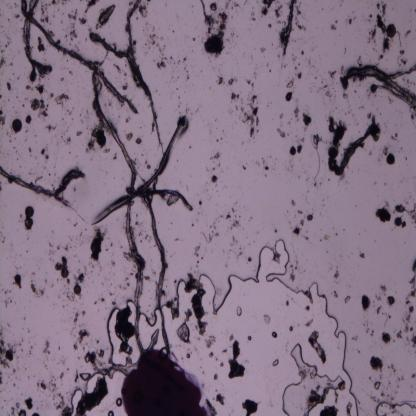Air bubble: (304, 279, 360, 416), (228, 238, 310, 301), (279, 341, 346, 416), (196, 268, 234, 318), (106, 306, 126, 366), (375, 403, 416, 416), (139, 306, 161, 329), (85, 371, 102, 394), (71, 385, 82, 416), (125, 301, 138, 326), (79, 371, 92, 382), (236, 305, 243, 318), (271, 356, 279, 366), (373, 381, 382, 389), (116, 396, 122, 407), (271, 331, 278, 339), (106, 409, 113, 416), (246, 336, 252, 340)
Background material: (75, 376, 108, 416), (238, 88, 259, 139), (0, 326, 19, 368), (395, 312, 416, 348), (88, 224, 108, 261), (306, 330, 327, 364), (202, 30, 225, 59), (393, 202, 416, 230), (228, 341, 244, 379), (192, 293, 206, 336), (201, 0, 218, 34), (177, 308, 193, 344), (308, 386, 330, 406), (30, 97, 50, 118), (186, 272, 204, 294), (306, 132, 324, 153), (242, 398, 262, 416), (316, 403, 340, 416), (375, 206, 393, 223), (369, 354, 385, 373), (55, 196, 76, 210), (52, 390, 66, 410), (407, 258, 416, 289), (261, 0, 276, 18), (85, 350, 98, 370), (98, 358, 112, 376), (202, 231, 220, 245), (47, 240, 63, 255), (218, 10, 230, 30), (84, 0, 100, 15), (301, 110, 312, 131), (313, 152, 320, 183), (76, 329, 91, 343), (94, 52, 109, 66), (54, 256, 67, 272), (376, 13, 386, 33), (224, 248, 234, 268), (55, 94, 69, 108), (12, 274, 24, 290), (360, 294, 371, 311), (381, 36, 391, 54), (36, 35, 46, 53), (206, 334, 218, 348), (138, 4, 150, 18), (156, 55, 168, 69), (145, 33, 156, 48), (35, 83, 47, 95), (325, 115, 337, 127), (67, 7, 78, 20), (294, 16, 304, 30), (86, 139, 96, 153), (274, 4, 284, 18), (24, 396, 34, 410), (368, 395, 382, 405), (43, 339, 52, 354), (210, 150, 221, 162), (405, 288, 416, 300), (216, 392, 225, 406), (112, 62, 122, 74), (289, 226, 301, 236), (286, 158, 294, 173), (381, 332, 391, 343), (36, 287, 46, 298), (396, 29, 402, 47), (294, 104, 300, 122), (274, 250, 282, 263), (104, 97, 114, 107), (65, 242, 75, 252), (210, 174, 220, 184), (230, 219, 240, 229), (230, 91, 240, 101), (387, 363, 397, 373), (342, 295, 352, 305), (285, 77, 294, 88), (209, 222, 218, 233), (228, 236, 239, 245), (40, 378, 47, 392), (262, 314, 270, 326), (370, 82, 378, 94), (46, 123, 58, 131), (121, 80, 129, 92), (4, 296, 12, 308), (0, 56, 8, 68), (288, 270, 296, 282), (327, 68, 336, 78), (50, 379, 56, 394), (63, 406, 72, 416), (72, 272, 78, 287), (63, 135, 72, 145), (380, 2, 386, 17), (170, 308, 178, 319), (408, 103, 416, 114), (217, 75, 225, 86), (338, 64, 346, 75), (193, 245, 201, 256), (384, 311, 389, 328), (155, 41, 162, 53), (30, 279, 36, 293), (70, 30, 77, 42), (149, 262, 156, 274), (78, 16, 87, 25), (77, 274, 85, 284), (97, 348, 105, 358), (124, 251, 132, 261), (296, 144, 304, 154), (382, 146, 390, 156), (391, 132, 399, 142), (97, 261, 103, 274), (278, 127, 285, 138), (347, 401, 352, 416), (124, 134, 133, 142), (337, 173, 346, 181), (305, 319, 314, 327), (358, 54, 364, 66), (403, 29, 411, 38), (226, 77, 234, 86), (25, 114, 32, 124), (371, 27, 376, 41), (17, 409, 27, 416), (391, 405, 398, 415), (342, 90, 349, 100), (0, 115, 6, 126), (334, 269, 340, 280), (301, 370, 309, 378), (46, 30, 54, 38), (358, 251, 366, 259), (330, 23, 338, 31), (306, 213, 314, 221), (210, 2, 218, 10), (70, 343, 78, 351), (322, 233, 331, 240), (104, 147, 113, 154), (167, 299, 174, 308), (40, 16, 49, 23), (74, 42, 80, 52), (6, 82, 12, 92), (134, 220, 144, 226), (74, 311, 79, 323), (309, 370, 316, 378), (379, 284, 386, 292), (147, 312, 154, 320), (35, 175, 42, 183), (394, 146, 401, 154), (66, 108, 73, 116), (237, 250, 244, 258), (144, 235, 152, 242), (60, 356, 67, 364), (87, 260, 94, 268), (375, 294, 382, 302), (14, 401, 21, 409), (11, 405, 16, 416), (303, 195, 309, 204), (295, 5, 301, 14), (0, 369, 3, 387), (51, 0, 60, 6), (368, 147, 374, 156), (224, 0, 230, 9), (277, 20, 286, 26), (333, 290, 339, 299), (41, 2, 45, 15), (233, 1, 240, 8), (69, 326, 75, 334), (125, 115, 131, 123), (70, 21, 76, 29), (302, 234, 310, 240), (62, 0, 70, 6), (299, 218, 305, 226), (376, 306, 382, 314), (74, 371, 78, 383), (408, 306, 414, 314), (226, 108, 234, 114), (13, 264, 19, 271), (246, 258, 253, 264), (291, 200, 297, 207), (221, 348, 228, 354), (240, 164, 247, 170), (325, 91, 332, 97), (351, 335, 358, 341), (260, 46, 266, 53), (337, 0, 344, 6), (230, 31, 236, 38), (390, 396, 396, 403), (144, 275, 150, 282), (98, 297, 105, 303), (384, 201, 389, 209), (83, 265, 87, 275), (260, 156, 265, 164), (294, 260, 298, 270), (209, 351, 214, 359), (397, 55, 401, 65), (162, 288, 167, 296), (292, 54, 297, 62), (296, 209, 304, 214), (376, 2, 380, 11), (14, 13, 20, 19), (26, 86, 32, 92), (68, 70, 74, 76), (60, 370, 64, 379), (388, 98, 394, 104), (244, 358, 249, 365), (213, 373, 218, 380), (68, 234, 73, 241), (36, 381, 41, 388), (367, 112, 372, 119), (241, 140, 246, 147), (114, 152, 118, 160), (366, 36, 370, 44), (298, 72, 302, 80), (306, 175, 310, 183), (40, 148, 44, 156), (287, 119, 291, 127), (32, 412, 40, 416), (348, 18, 352, 26), (252, 71, 256, 79), (254, 62, 258, 70), (229, 334, 233, 342), (367, 91, 371, 99), (174, 277, 178, 285), (14, 2, 19, 8), (322, 84, 328, 89), (226, 214, 232, 219), (44, 364, 49, 370), (365, 327, 370, 333), (45, 2, 48, 12), (402, 199, 408, 204), (110, 260, 115, 266), (264, 166, 270, 171), (72, 222, 78, 227), (138, 230, 142, 237), (12, 368, 16, 375), (28, 146, 32, 153), (380, 373, 384, 380), (76, 132, 83, 136), (412, 121, 416, 128), (344, 47, 348, 54), (198, 199, 202, 206), (280, 113, 284, 120), (82, 310, 86, 317), (342, 383, 345, 392), (219, 362, 224, 367), (273, 228, 278, 233), (8, 62, 13, 67), (173, 296, 178, 301), (250, 11, 255, 16), (411, 373, 416, 378), (108, 291, 113, 296), (405, 300, 410, 305), (93, 300, 98, 305), (252, 17, 257, 22), (72, 332, 76, 338), (369, 30, 373, 36), (52, 184, 56, 190), (112, 300, 116, 306), (0, 110, 4, 116), (8, 40, 12, 46), (411, 114, 415, 120), (233, 212, 237, 218), (72, 292, 75, 300), (247, 78, 251, 84), (326, 176, 330, 182), (357, 348, 361, 354), (124, 276, 128, 282), (400, 49, 404, 55), (308, 58, 312, 64), (235, 103, 238, 111), (208, 129, 212, 135), (44, 278, 48, 284), (184, 76, 190, 80), (66, 278, 70, 284), (370, 330, 374, 336), (66, 295, 70, 301), (300, 49, 304, 55), (286, 300, 290, 306), (370, 375, 373, 382), (250, 55, 254, 60), (400, 58, 404, 63), (284, 63, 289, 67), (188, 144, 192, 149), (57, 39, 61, 44), (31, 272, 36, 276), (368, 14, 373, 18), (394, 389, 398, 394), (268, 24, 272, 29), (177, 95, 181, 100), (186, 353, 190, 358), (46, 155, 50, 160), (7, 37, 12, 41), (177, 60, 181, 65), (122, 285, 126, 290), (49, 258, 54, 262), (380, 392, 384, 397), (380, 54, 384, 59), (406, 79, 410, 84), (334, 232, 338, 237), (12, 382, 16, 387), (202, 370, 206, 375), (234, 77, 238, 82), (226, 38, 230, 43), (192, 37, 196, 42), (0, 181, 2, 191), (50, 93, 54, 98), (25, 96, 30, 100), (313, 182, 318, 186), (250, 82, 254, 87), (182, 57, 186, 62), (377, 157, 381, 162), (219, 214, 224, 218), (238, 214, 242, 219), (139, 239, 143, 244), (171, 75, 175, 80), (373, 180, 377, 185), (124, 71, 127, 77), (244, 0, 247, 6), (0, 94, 3, 100), (297, 174, 300, 180), (366, 321, 369, 327), (231, 207, 234, 213), (152, 26, 155, 32), (57, 278, 60, 284), (82, 346, 86, 350), (130, 272, 134, 276), (22, 316, 26, 320), (60, 77, 64, 81), (306, 306, 310, 310), (195, 108, 199, 112), (214, 357, 218, 361), (25, 250, 29, 254), (384, 66, 388, 70), (355, 122, 359, 126), (212, 166, 216, 170), (51, 284, 55, 288), (402, 373, 404, 381), (248, 242, 252, 246), (288, 221, 292, 225), (318, 182, 322, 186), (290, 264, 294, 268), (51, 230, 55, 234), (345, 18, 349, 22), (302, 139, 306, 143), (26, 237, 30, 241), (368, 19, 372, 23), (402, 78, 406, 82), (282, 61, 284, 69), (404, 157, 408, 161), (20, 214, 23, 219), (384, 122, 387, 127), (388, 380, 391, 385), (28, 350, 31, 355), (376, 62, 379, 67), (66, 129, 69, 134), (326, 249, 329, 254), (110, 242, 113, 247), (384, 18, 387, 23), (81, 119, 84, 124), (6, 131, 9, 136), (398, 376, 401, 381), (27, 328, 30, 333), (127, 282, 130, 287), (161, 51, 164, 56), (400, 147, 403, 152), (407, 84, 410, 89), (80, 231, 82, 238), (175, 238, 179, 241), (0, 50, 4, 53), (320, 81, 324, 84), (84, 38, 87, 42), (3, 398, 6, 402), (77, 356, 80, 360), (191, 4, 194, 8), (277, 54, 280, 58), (303, 26, 306, 30), (8, 17, 10, 23), (29, 346, 32, 350), (60, 19, 63, 23), (119, 245, 122, 249), (257, 162, 260, 166), (147, 0, 151, 3), (124, 63, 127, 67), (0, 24, 3, 28), (378, 56, 380, 62), (372, 47, 375, 51), (105, 248, 109, 251), (61, 117, 64, 121), (2, 29, 5, 33), (294, 66, 298, 69), (354, 90, 357, 94), (57, 8, 60, 12), (314, 76, 318, 79), (73, 188, 76, 192), (266, 103, 269, 107), (58, 346, 61, 350), (170, 56, 173, 60), (196, 260, 199, 264), (222, 128, 225, 132), (8, 290, 12, 293), (208, 198, 211, 202), (186, 184, 188, 190), (77, 260, 80, 264), (9, 244, 13, 247), (8, 140, 12, 143), (25, 130, 28, 134), (71, 106, 74, 110), (211, 66, 214, 70), (209, 86, 212, 90), (267, 61, 269, 67), (389, 315, 392, 319), (335, 19, 338, 23), (354, 16, 356, 22), (358, 107, 362, 110), (17, 76, 20, 80), (376, 194, 379, 198), (264, 174, 267, 178), (216, 138, 219, 142), (120, 284, 122, 290), (352, 113, 354, 118), (28, 375, 30, 380), (63, 304, 65, 309), (48, 3, 51, 6), (186, 70, 189, 73), (321, 7, 324, 10), (71, 118, 74, 121), (363, 323, 366, 326), (65, 35, 68, 38), (216, 190, 219, 193), (48, 173, 51, 176), (409, 195, 412, 198), (191, 223, 194, 226), (201, 257, 204, 260), (358, 130, 361, 133), (294, 40, 297, 43), (307, 190, 310, 193), (4, 292, 7, 295), (247, 218, 250, 221), (374, 94, 377, 97), (18, 220, 21, 223), (255, 161, 258, 164), (226, 52, 230, 54), (352, 10, 354, 14), (198, 337, 200, 341), (4, 236, 6, 240), (136, 16, 138, 20), (272, 42, 274, 46), (4, 45, 8, 47), (0, 13, 2, 17), (178, 104, 180, 108), (184, 66, 186, 70), (97, 340, 99, 344), (136, 213, 138, 217), (35, 156, 37, 160), (414, 82, 416, 86), (186, 106, 187, 114), (221, 136, 223, 140), (15, 150, 17, 154), (171, 221, 173, 225), (414, 8, 416, 12), (362, 105, 364, 109), (9, 134, 11, 138), (206, 181, 208, 184), (320, 211, 322, 214), (404, 61, 406, 64), (399, 64, 401, 67), (15, 111, 18, 113), (359, 83, 361, 86), (10, 6, 12, 9), (52, 15, 55, 17), (404, 241, 406, 244), (22, 104, 24, 107), (236, 35, 238, 38), (20, 18, 22, 21), (384, 183, 387, 185), (387, 394, 389, 397), (323, 204, 326, 206), (79, 114, 82, 116), (374, 40, 376, 43), (66, 59, 68, 62), (320, 239, 322, 242), (382, 312, 384, 315), (269, 69, 271, 72), (287, 133, 289, 136), (309, 87, 311, 90), (19, 266, 22, 268), (20, 254, 22, 257), (2, 226, 4, 229), (43, 167, 46, 169), (35, 135, 37, 138), (396, 386, 399, 388), (379, 113, 382, 115), (335, 82, 338, 84), (215, 118, 217, 121), (348, 111, 350, 114), (355, 204, 357, 207), (331, 87, 334, 89), (345, 112, 347, 115), (335, 108, 338, 110), (61, 135, 63, 138), (69, 152, 72, 154), (367, 89, 369, 92), (410, 9, 411, 13), (317, 90, 319, 92), (85, 229, 87, 231), (19, 100, 21, 102), (322, 199, 324, 201), (74, 255, 76, 257), (172, 30, 174, 32), (54, 174, 56, 176), (343, 229, 345, 231), (375, 44, 377, 46), (376, 50, 378, 52), (8, 99, 10, 101), (52, 376, 54, 378), (10, 172, 12, 174), (200, 70, 202, 72), (177, 88, 179, 90), (2, 241, 4, 243), (110, 284, 112, 286), (115, 287, 117, 289), (2, 405, 3, 409), (156, 90, 158, 92), (30, 155, 32, 157), (383, 132, 385, 134), (22, 392, 23, 396), (191, 50, 193, 52), (414, 38, 416, 40), (191, 113, 193, 115), (67, 368, 69, 370), (204, 189, 206, 191), (102, 283, 104, 285), (334, 90, 336, 92), (401, 180, 403, 182), (395, 124, 397, 126), (374, 25, 376, 27), (410, 20, 412, 22), (17, 158, 19, 160), (411, 25, 412, 28), (16, 95, 17, 98), (67, 304, 68, 307), (237, 62, 238, 65), (70, 43, 71, 46), (251, 216, 252, 219), (91, 270, 92, 273), (79, 0, 82, 1), (232, 7, 233, 9), (415, 30, 416, 32), (67, 292, 68, 294), (13, 106, 14, 108), (6, 258, 8, 259), (210, 196, 212, 197), (404, 156, 405, 158), (188, 108, 189, 110), (58, 362, 59, 364), (58, 297, 60, 298), (387, 59, 388, 61), (178, 76, 179, 78), (174, 63, 176, 64), (20, 166, 21, 168), (118, 285, 119, 287), (299, 64, 300, 66), (34, 376, 35, 377), (68, 127, 69, 128), (176, 80, 177, 81)
Cellulose filter fibre: (22, 3, 138, 114), (88, 29, 162, 147), (90, 76, 142, 192), (124, 200, 150, 356), (143, 196, 171, 338), (335, 63, 416, 104), (0, 162, 86, 198), (329, 119, 380, 175), (23, 0, 56, 78), (278, 0, 297, 55), (126, 0, 141, 55)
Cotton: (148, 184, 192, 208)
Diatom: (96, 4, 115, 25), (12, 118, 22, 134), (385, 24, 396, 37), (23, 218, 34, 230), (328, 146, 338, 159), (24, 205, 34, 218), (118, 341, 128, 353), (97, 136, 107, 148), (386, 153, 395, 165), (393, 216, 402, 227), (60, 268, 69, 278), (387, 296, 396, 306), (198, 288, 206, 296), (74, 286, 81, 294), (290, 145, 295, 156), (286, 93, 291, 102), (328, 125, 334, 132), (288, 326, 294, 332)
Pen: (121, 346, 215, 416)
